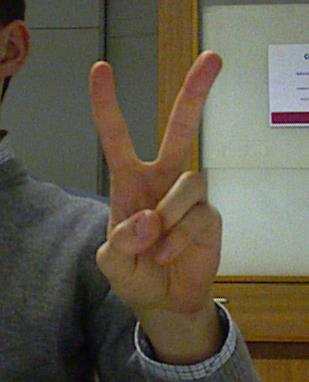front: (90, 49, 225, 312)
